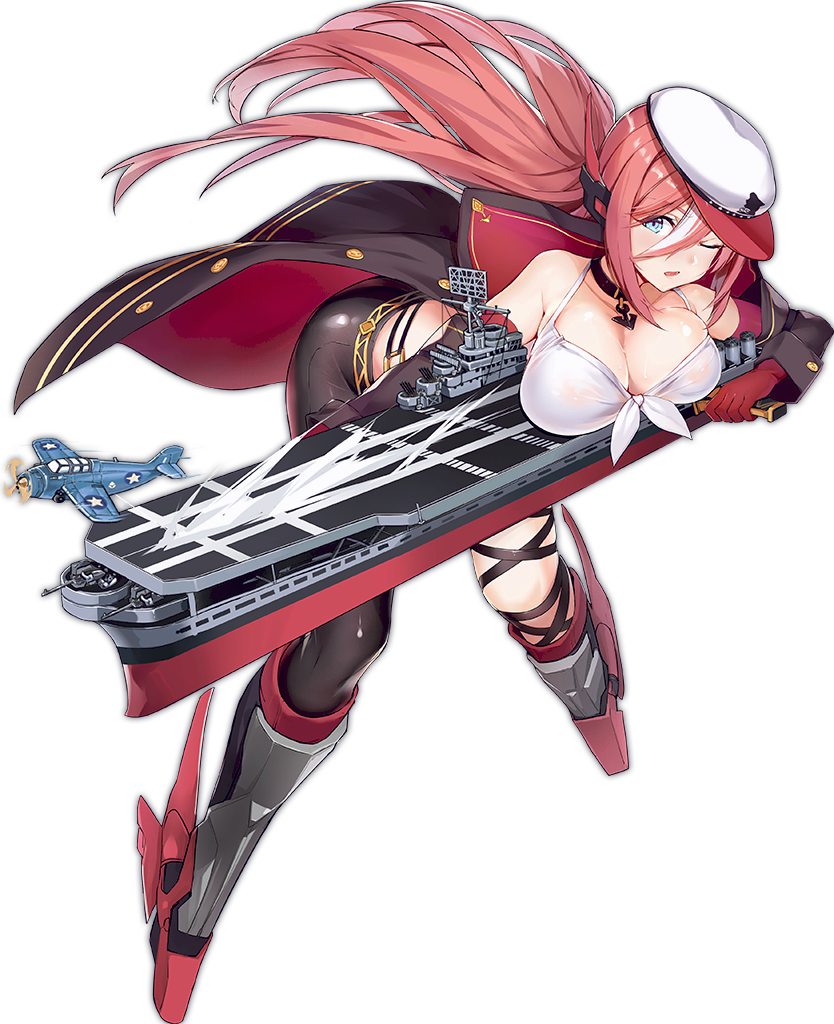person: (141, 77, 768, 851)
